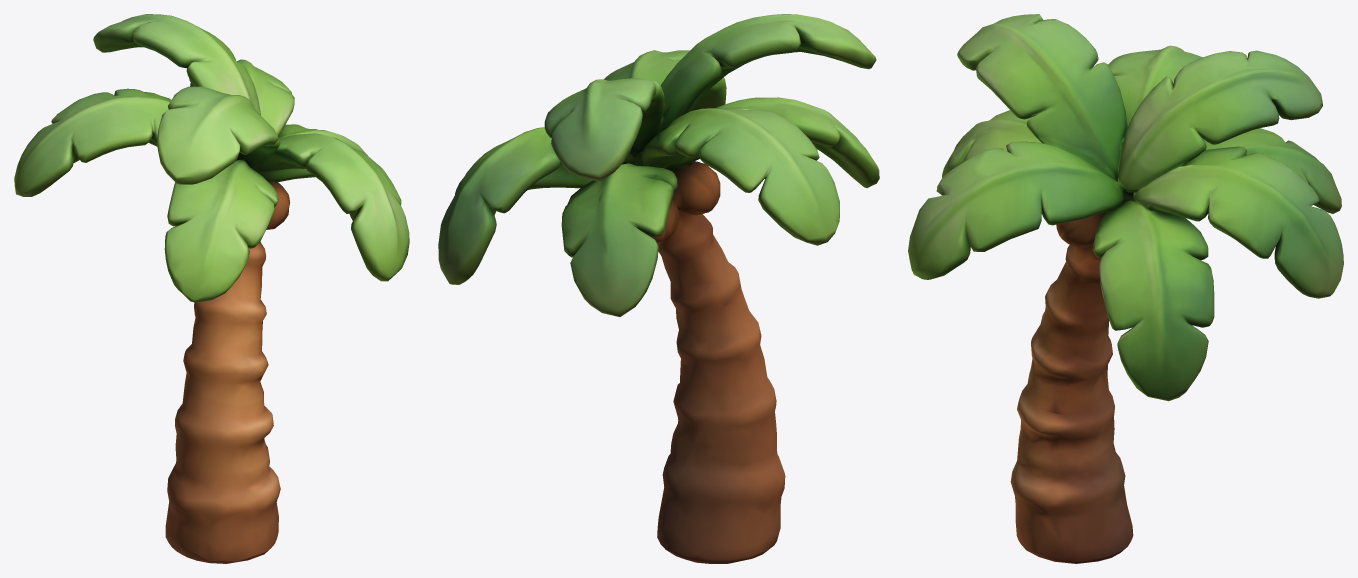
The model's file is palm_4k.glb.
3 views of the same model, side by side, from view 1: azimuth 30°, elevation 25°; view 2: azimuth 150°, elevation 25°; view 3: azimuth 270°, elevation 25° (orthographic). The views are drawn at different scales.
Visible parts, largest first — view 1: tripo_node_2e10e8a2-3fec-4771-bced-0935fc4a648e; view 2: tripo_node_2e10e8a2-3fec-4771-bced-0935fc4a648e; view 3: tripo_node_2e10e8a2-3fec-4771-bced-0935fc4a648e.
Part boxes in pixels (<box>): tripo_node_2e10e8a2-3fec-4771-bced-0935fc4a648e: <box>14,14,409,563</box>; tripo_node_2e10e8a2-3fec-4771-bced-0935fc4a648e: <box>438,14,879,563</box>; tripo_node_2e10e8a2-3fec-4771-bced-0935fc4a648e: <box>908,14,1343,563</box>.
Bounding box in the file's own units: 0.7767 × 0.9807 × 0.7802.
1 material, 1 textured.
